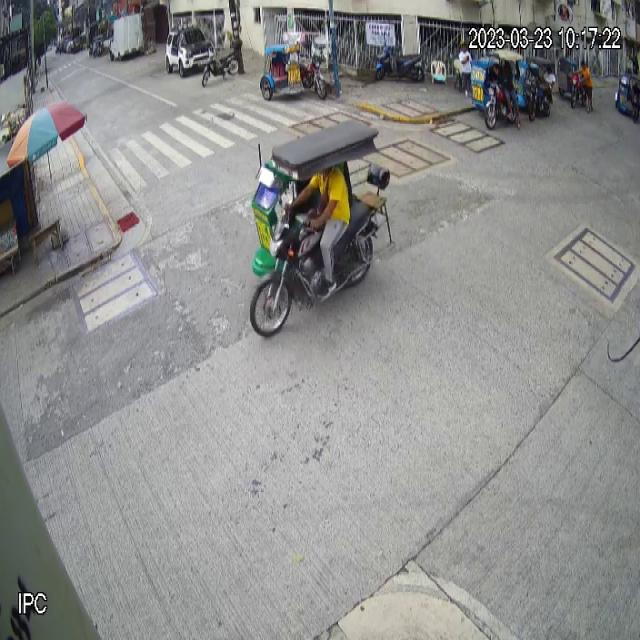Tricycle: (248, 120, 396, 341), (260, 32, 328, 102), (469, 48, 524, 131)
